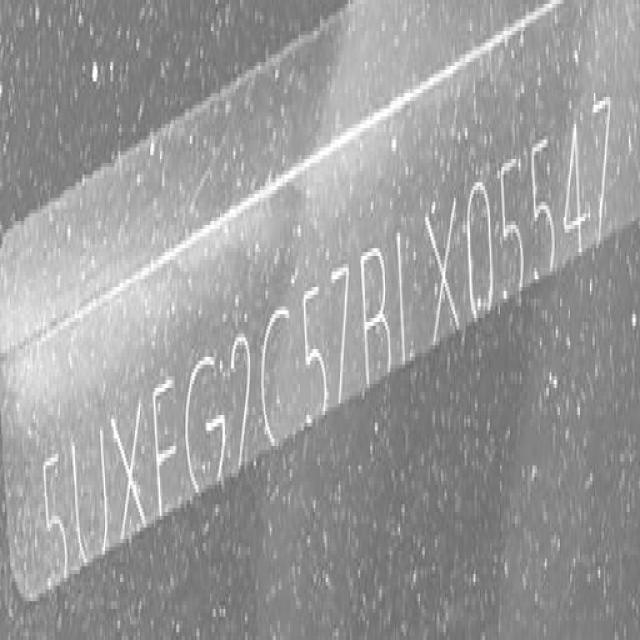0: (466, 178, 494, 329)
2: (230, 331, 262, 478)
4: (560, 115, 588, 260)
5: (299, 279, 331, 432), (37, 441, 70, 589), (528, 135, 558, 289), (498, 152, 526, 306)
7: (331, 261, 356, 418), (591, 93, 613, 250)
B: (360, 234, 397, 400)
C: (261, 306, 299, 461)
F: (152, 378, 178, 517)
G: (180, 354, 230, 496)
L: (396, 227, 429, 385)
U: (71, 431, 116, 572)
X: (424, 198, 466, 351), (110, 412, 149, 540)
